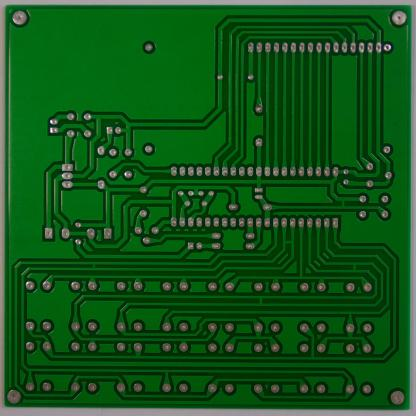short: (337, 195, 348, 210), (280, 238, 296, 247), (256, 294, 266, 308), (350, 260, 358, 275), (90, 261, 98, 272)
